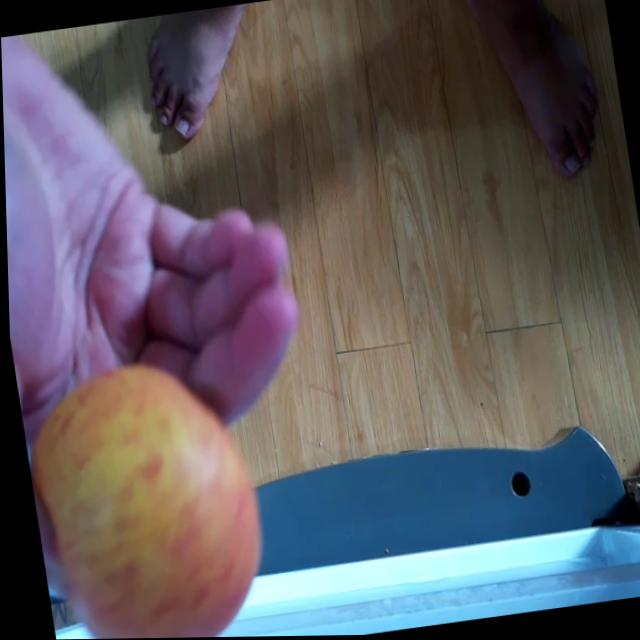apple: (16, 351, 278, 640)
